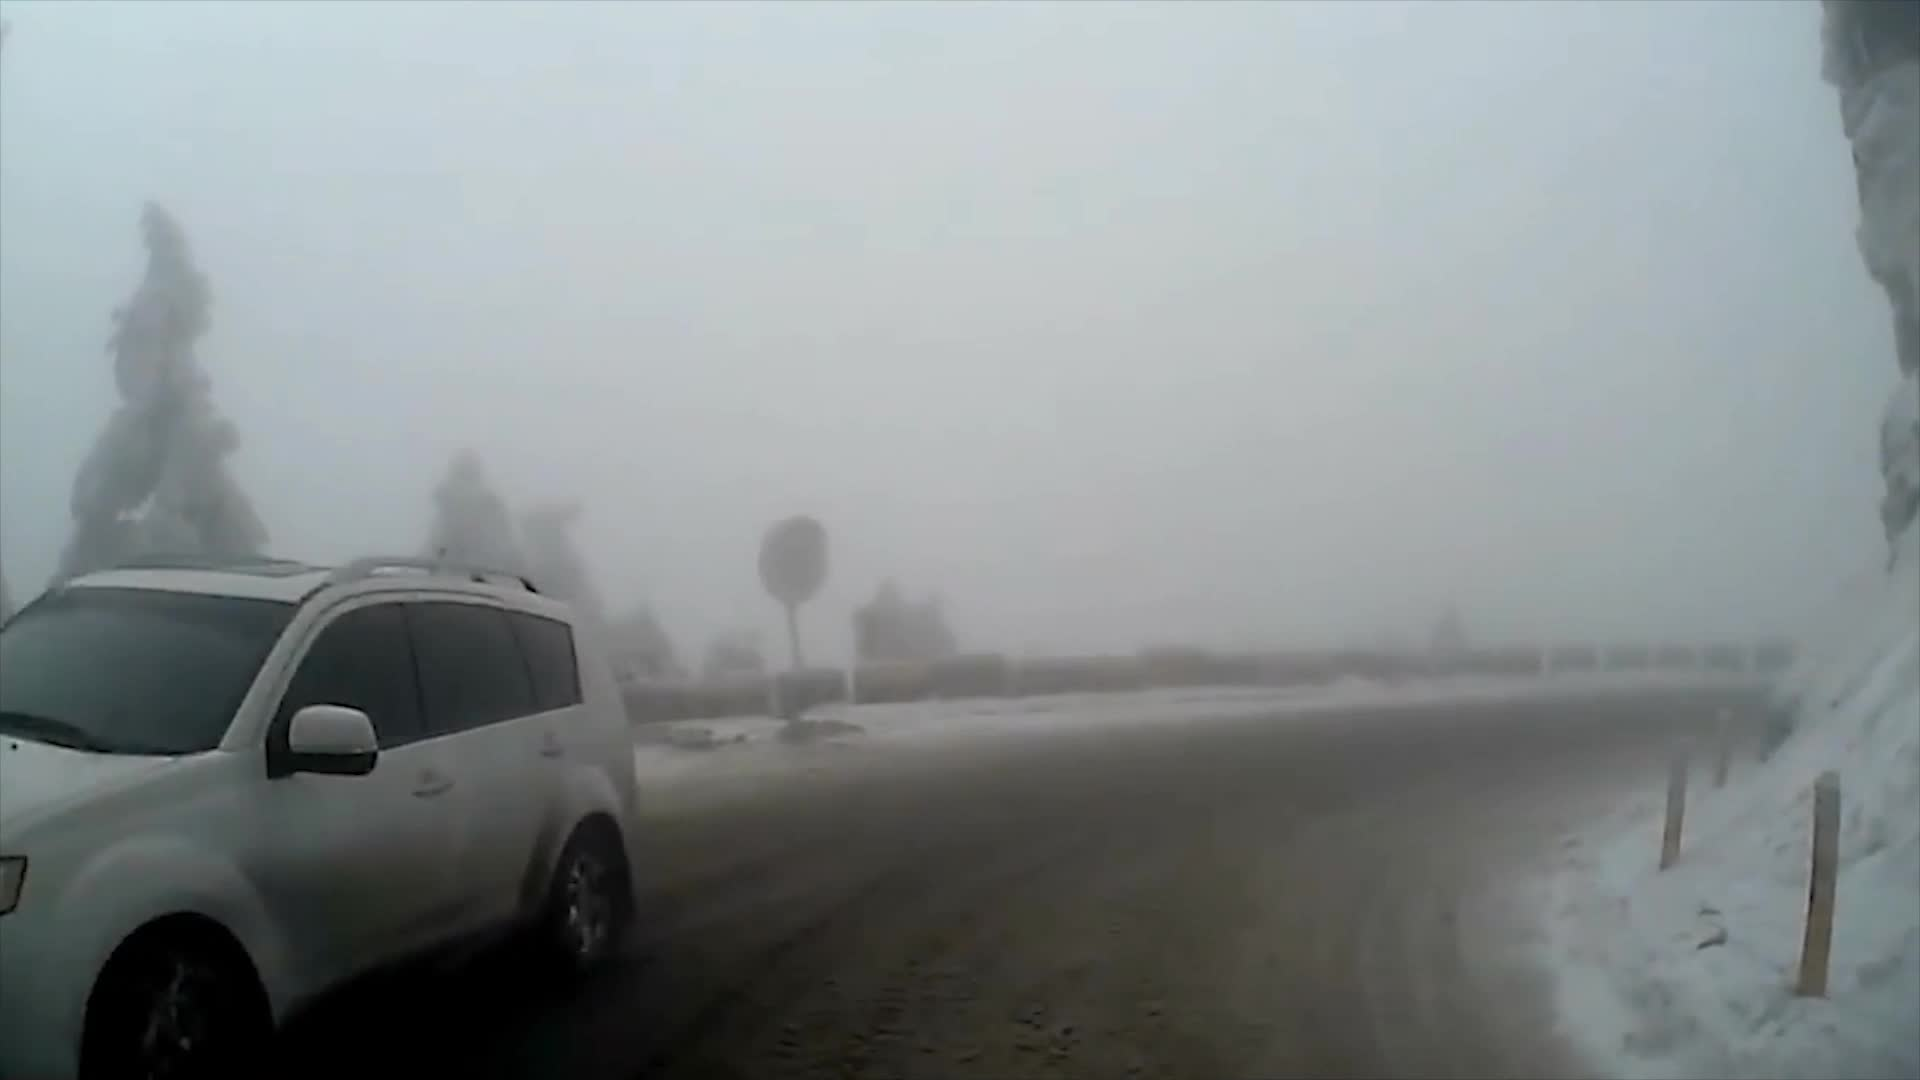vehicle: (0, 549, 644, 1080)
